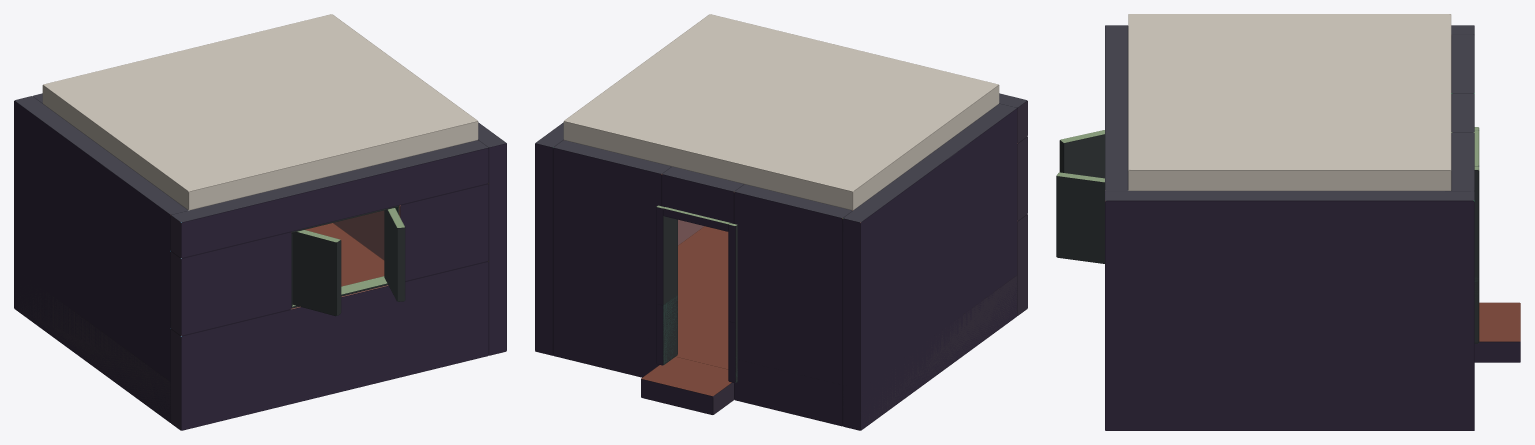
The model's file is Kitchen.fbx.
3 views of the same model, side by side, from view 1: azimuth 30°, elevation 25°; view 2: azimuth 150°, elevation 25°; view 3: azimuth 270°, elevation 25° (orthographic). The views are drawn at different scales.
Parts seen in each view (by area): view 1: cuboid_4, wall behind_7, wall behind_9, wall behind_1, wall behind_10, wall behind_11, wall behind, wall behind_4, cuboid_2, cuboid, cuboid_3, frames; view 2: cuboid_4, wall behind_7, wall behind_6, wall behind_5, cuboid, frames_2, wall behind, wall behind_4, cuboid_1, wall behind_8, wall behind_3, frames_1 (+3 smaller); view 3: wall behind, cuboid_4, cuboid_3, wall behind_1, cuboid_1, cuboid_2, wall behind_5, wall behind_6, frames_2, wall behind_8.
Part boxes in pixels (x1=…): cuboid_4: x1=42, y1=14, x2=478, y2=210; wall behind_7: x1=14, y1=96, x2=188, y2=422; wall behind_9: x1=170, y1=261, x2=488, y2=430; wall behind_1: x1=170, y1=140, x2=488, y2=258; wall behind_10: x1=170, y1=232, x2=291, y2=335; wall behind_11: x1=399, y1=184, x2=488, y2=281; wall behind: x1=333, y1=122, x2=506, y2=355; wall behind_4: x1=14, y1=280, x2=170, y2=421; cuboid_2: x1=292, y1=230, x2=341, y2=316; cuboid: x1=305, y1=223, x2=384, y2=286; cuboid_3: x1=384, y1=208, x2=405, y2=301; frames: x1=291, y1=205, x2=399, y2=308; cuboid_4: x1=563, y1=14, x2=999, y2=210; wall behind_7: x1=842, y1=103, x2=1017, y2=430; wall behind_6: x1=734, y1=184, x2=852, y2=426; wall behind_5: x1=553, y1=140, x2=671, y2=377; cuboid: x1=676, y1=226, x2=728, y2=369; frames_2: x1=656, y1=205, x2=737, y2=382; wall behind: x1=535, y1=122, x2=704, y2=355; wall behind_4: x1=842, y1=275, x2=1017, y2=429; cuboid_1: x1=641, y1=356, x2=734, y2=414; wall behind_8: x1=661, y1=166, x2=743, y2=224; wall behind_3: x1=734, y1=359, x2=842, y2=425; frames_1: x1=656, y1=295, x2=737, y2=382; wall behind: x1=1105, y1=191, x2=1474, y2=430; cuboid_4: x1=1128, y1=14, x2=1451, y2=190; cuboid_3: x1=1056, y1=172, x2=1104, y2=263; wall behind_1: x1=1105, y1=25, x2=1128, y2=190; cuboid_1: x1=1474, y1=302, x2=1520, y2=362; cuboid_2: x1=1059, y1=130, x2=1104, y2=178; wall behind_5: x1=1451, y1=132, x2=1474, y2=201; wall behind_6: x1=1451, y1=35, x2=1474, y2=93; frames_2: x1=1451, y1=127, x2=1479, y2=343; wall behind_8: x1=1451, y1=93, x2=1474, y2=132.
Size of the model in its own units: 1125 by 750 by 1257.
4 materials, 4 textured.
